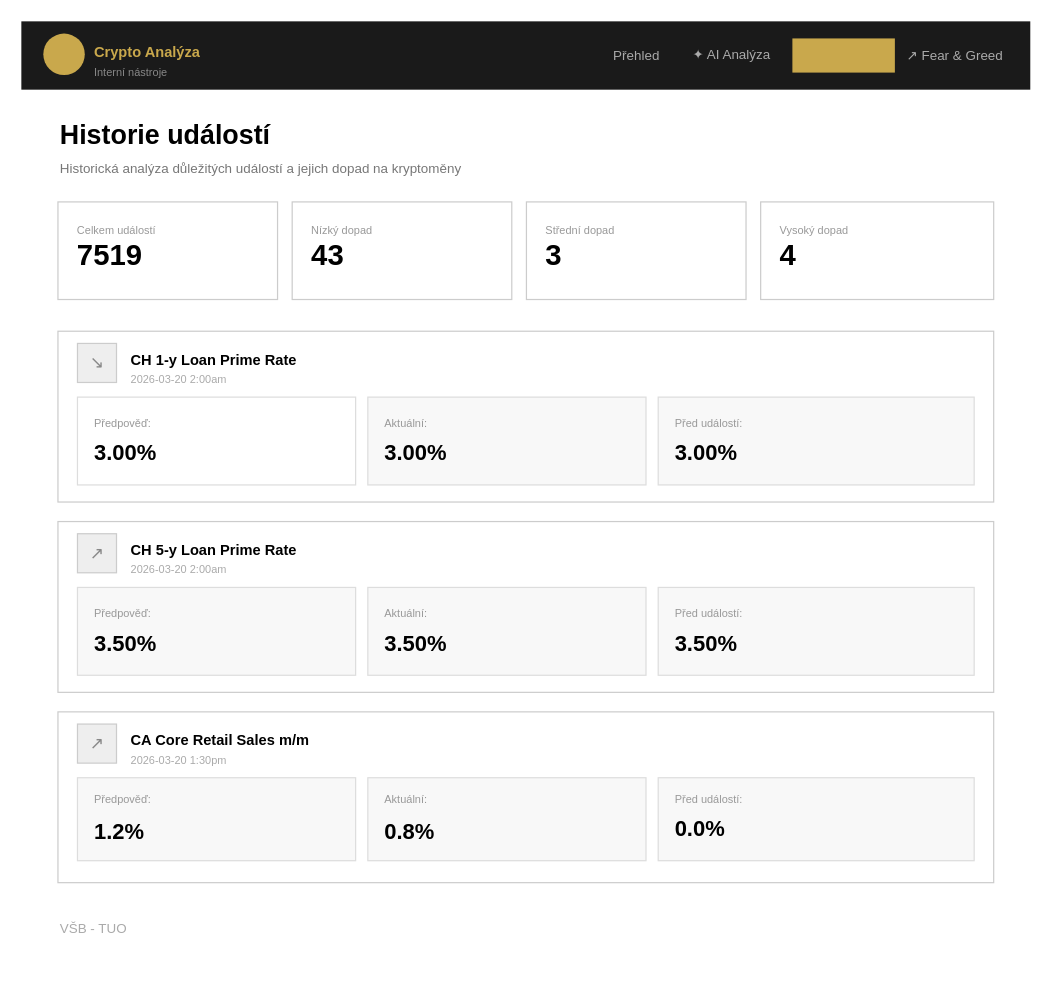
Image size: 1050x982. Some labels were removed from this diagram. Here are the shapes that lost their labels. From the top down, the centre of each, then its label:
At [63,53]: "SB".
At [843,55]: "◷ Historie".
